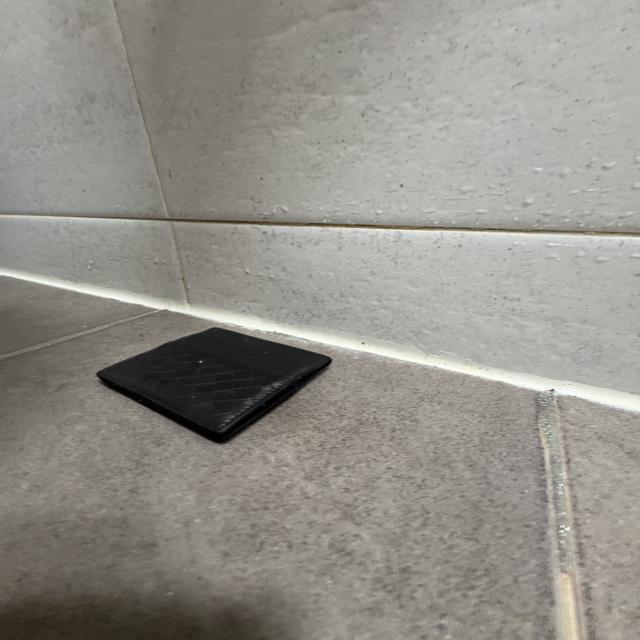wallet: (95, 328, 335, 446)
